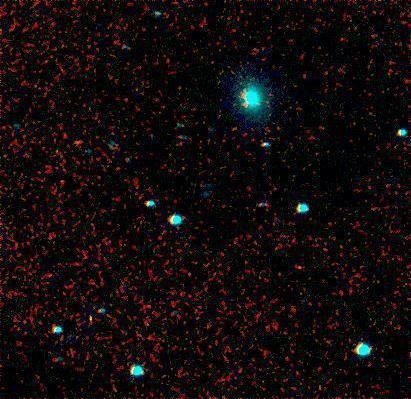star: (52, 122, 82, 152)
